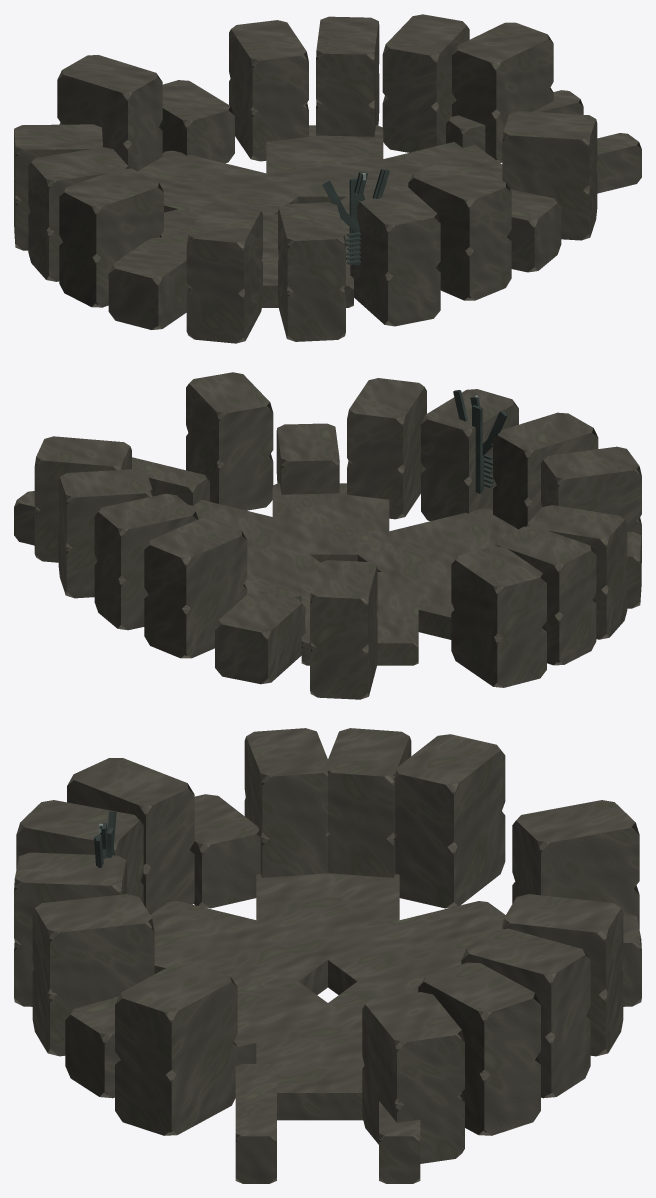
Rendered from cataclysm_fen_cistern-lod1.gltf.
3 renders of one model, top to bottom at view 1: azimuth 30°, elevation 25°; view 2: azimuth 150°, elevation 25°; view 3: azimuth 270°, elevation 25°, orthographic. The views are drawn at different scales.
Parts seen in each view (by area): view 1: cataclysm_fen_cistern LOD1 cataclysm_fen_cistern; view 2: cataclysm_fen_cistern LOD1 cataclysm_fen_cistern; view 3: cataclysm_fen_cistern LOD1 cataclysm_fen_cistern.
Part boxes in pixels (box(x1,y1,x2,y2)): cataclysm_fen_cistern LOD1 cataclysm_fen_cistern: box(14, 14, 641, 343); cataclysm_fen_cistern LOD1 cataclysm_fen_cistern: box(14, 372, 641, 699); cataclysm_fen_cistern LOD1 cataclysm_fen_cistern: box(14, 728, 641, 1183).
Bounding box in the file's own units: 2.83 × 0.6469 × 2.28.
Materials: 3 (2 with a texture image).
